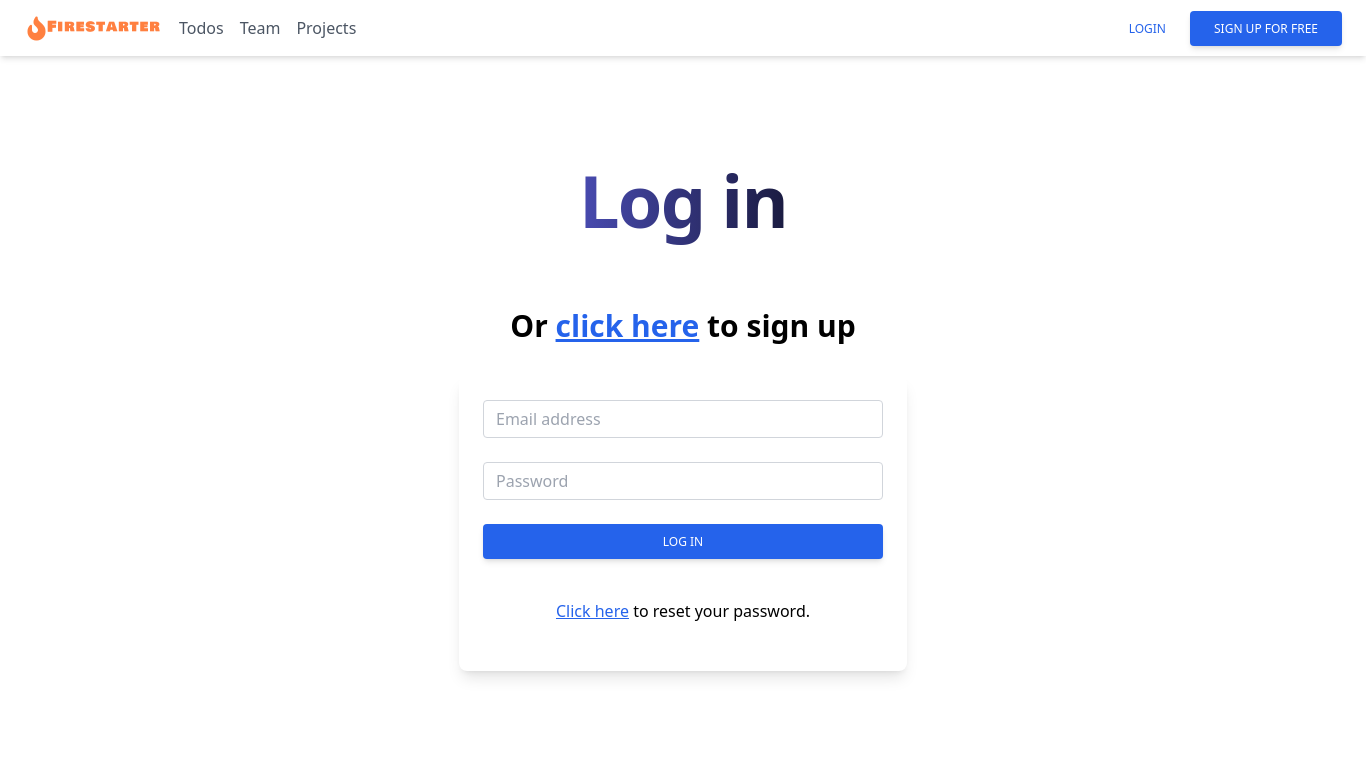
Test: Login › validates the password exists
Type "me@them.com" into the field with placeholder "Email address" at (683, 419), box [483,400,883,438]
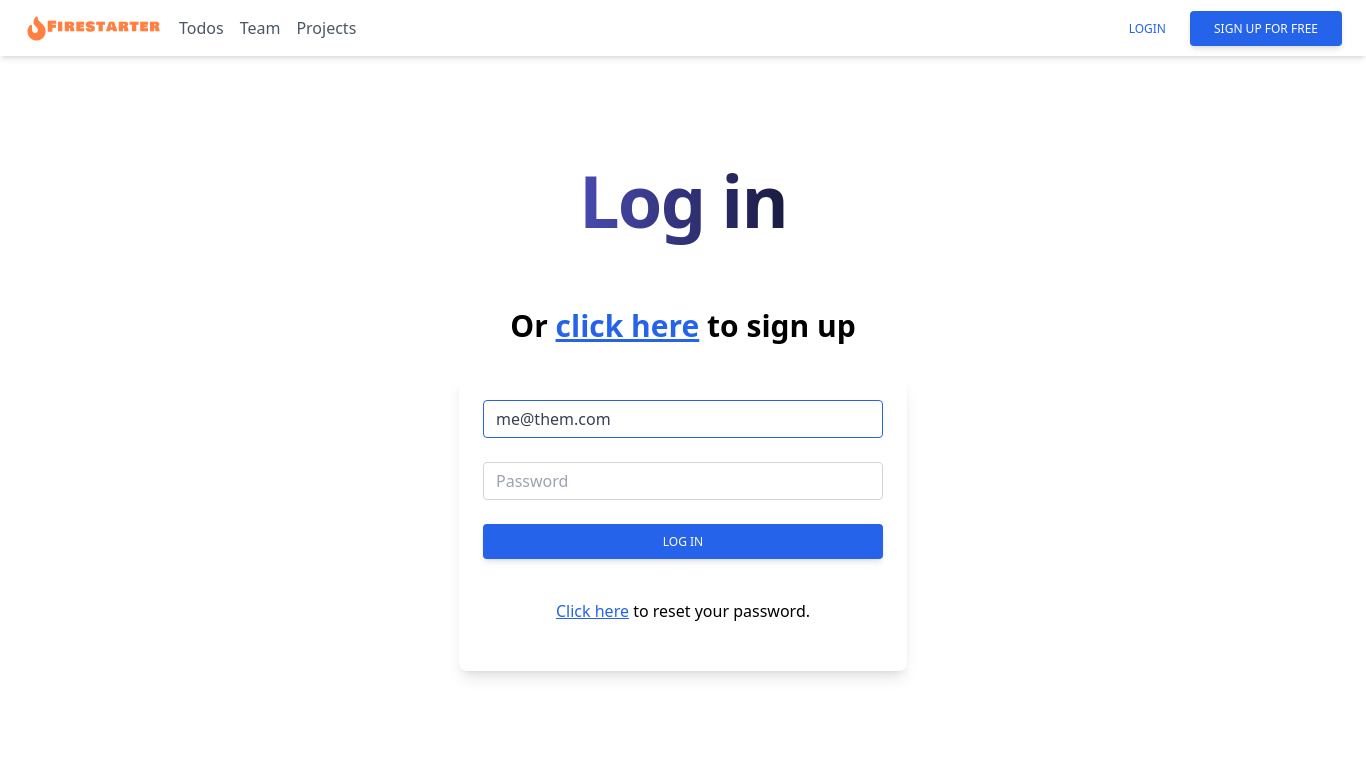
Type "password123" into the password field with placeholder "Password" at (683, 481), box [483,462,883,500]
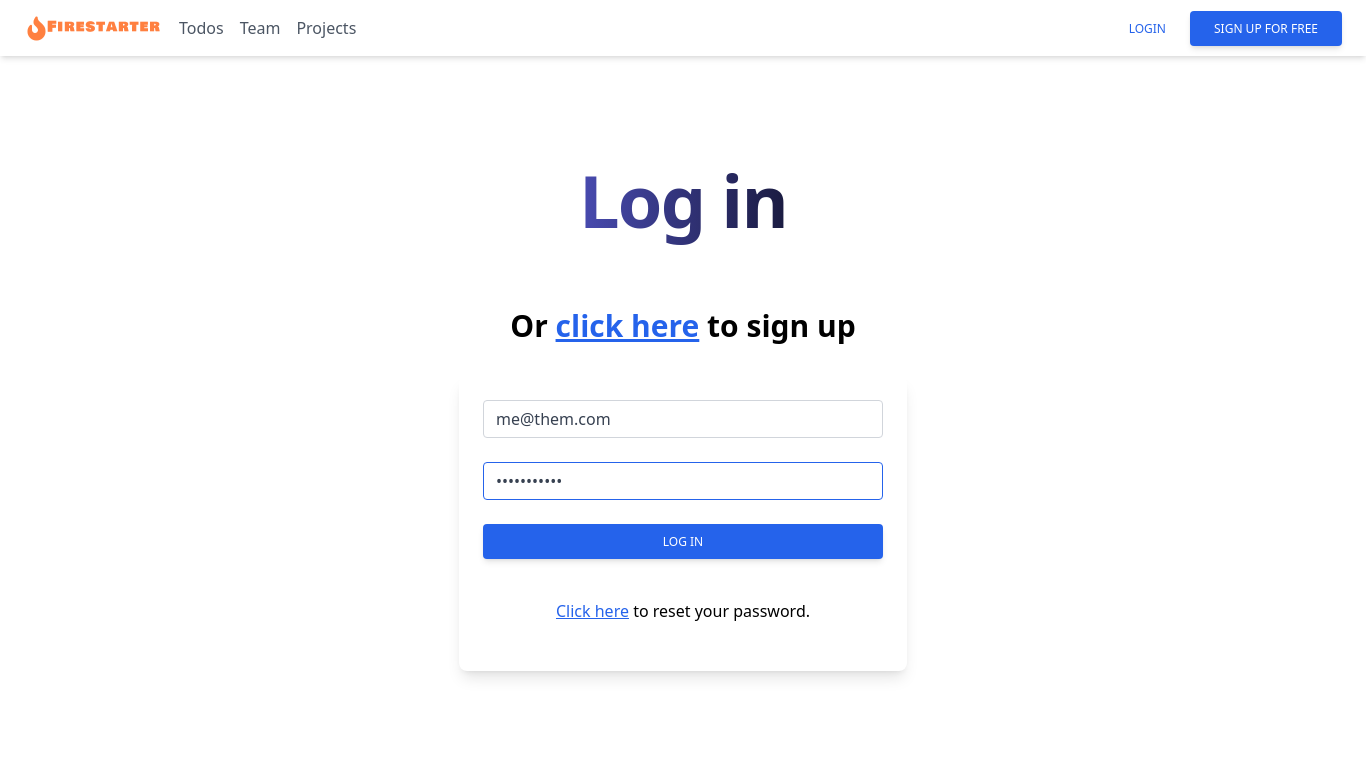
Clear the password field with placeholder "Password" at (683, 481), box [483,462,883,500]
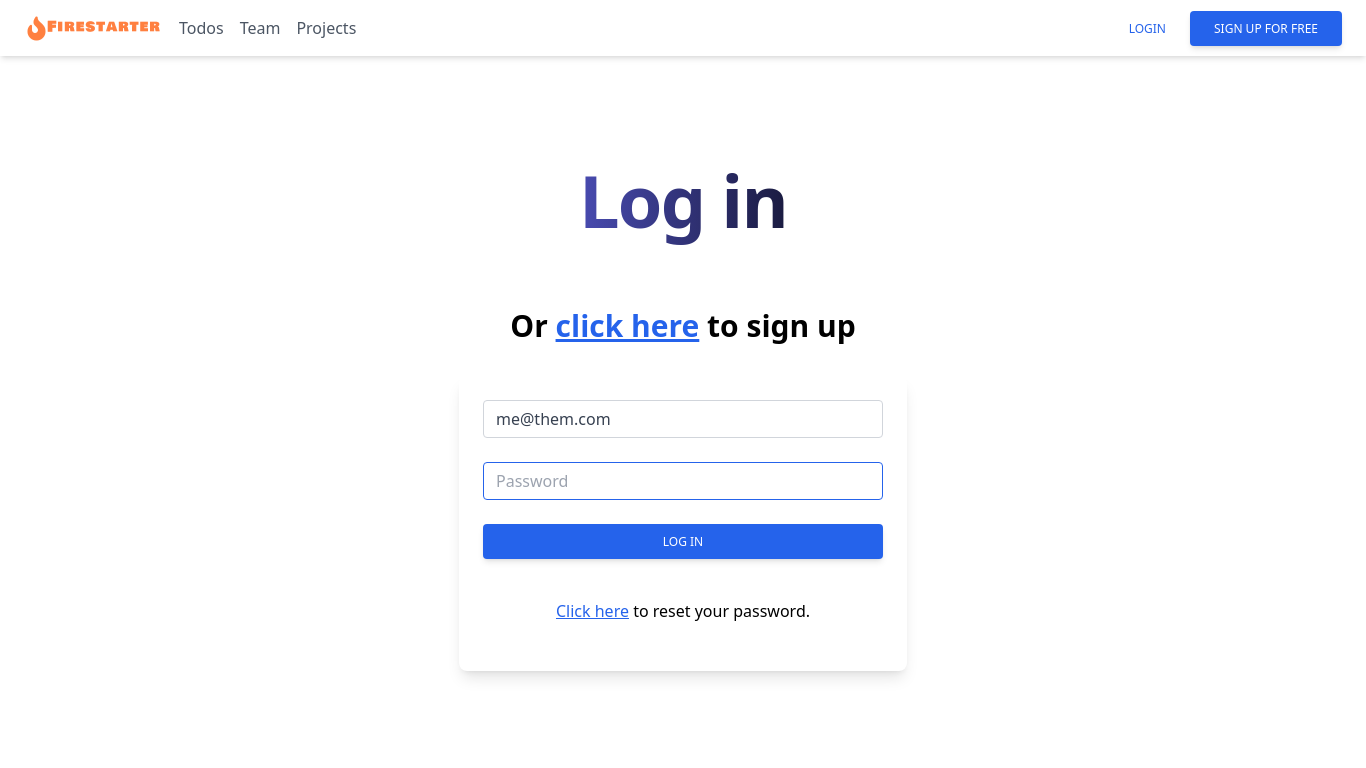
Click the button "Log in" at (683, 542), box [483,524,883,559]
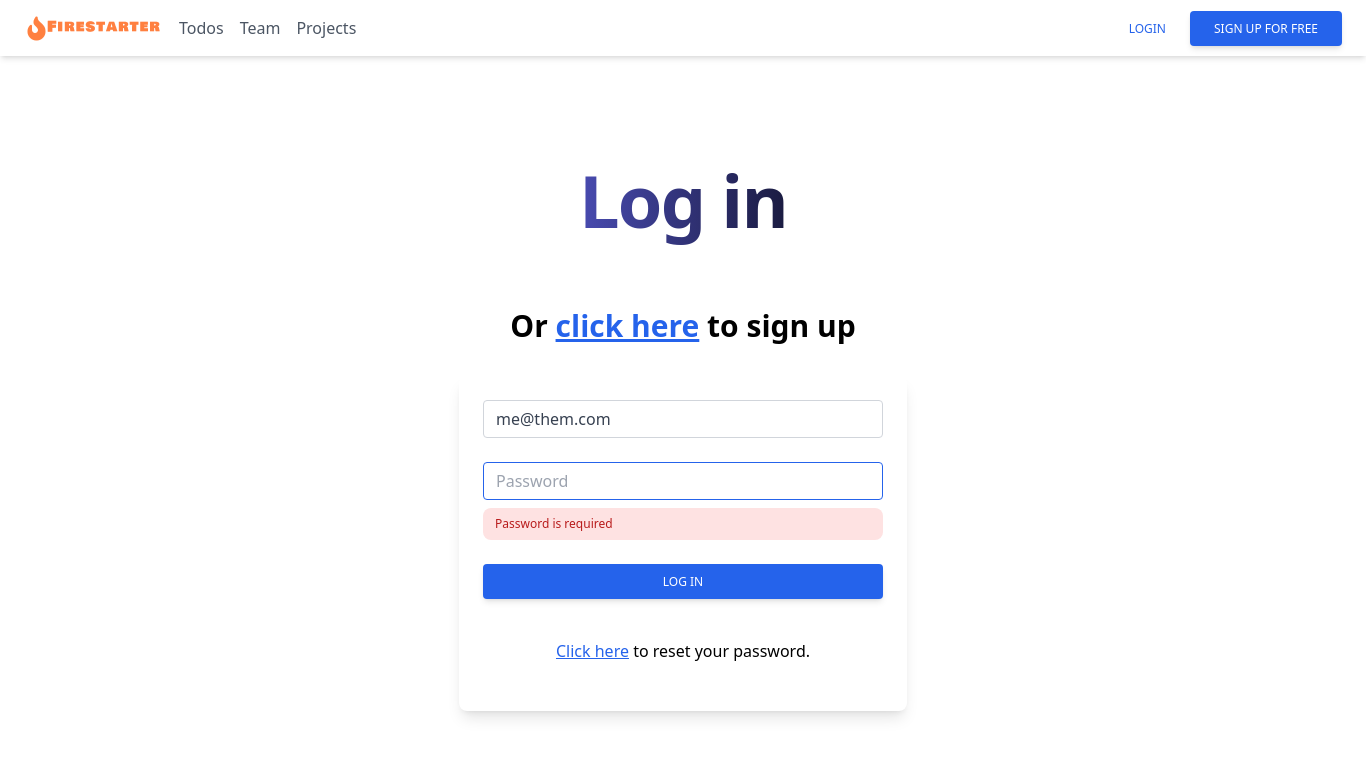
expect the number of messages is 1: met, box [483,508,883,540]
expect the message reads "Password is required": met, box [495,515,613,532]
